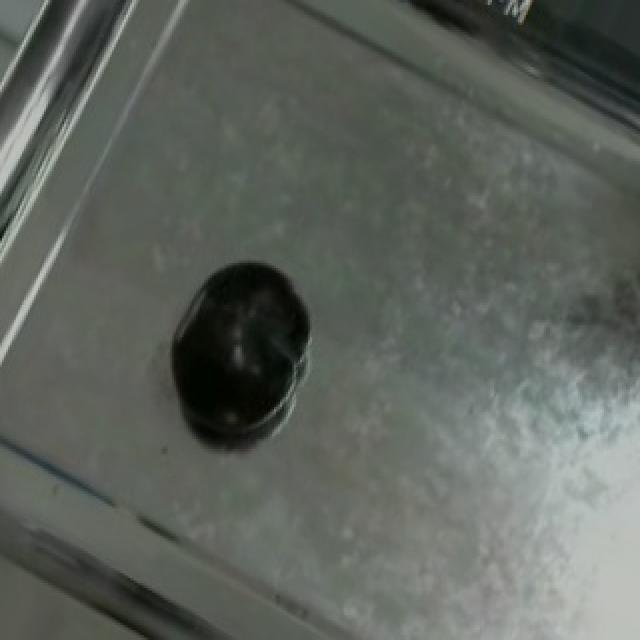Fruit: (156, 238, 326, 454)
